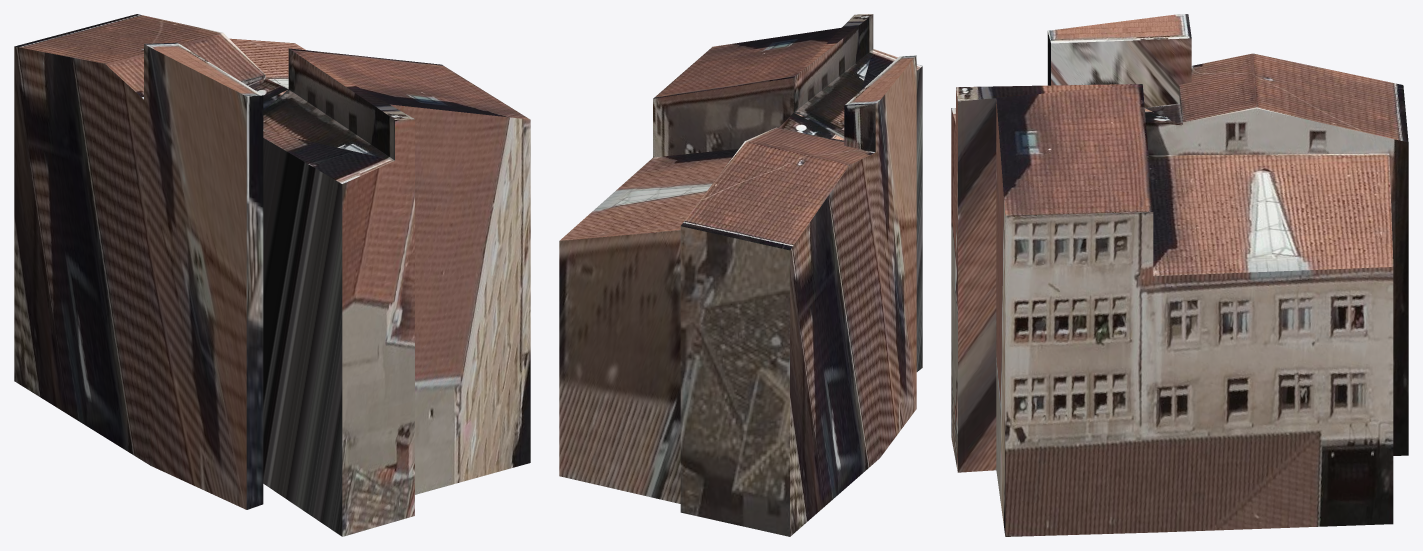
3 renders of one model, left to right at view 1: azimuth 30°, elevation 25°; view 2: azimuth 150°, elevation 25°; view 3: azimuth 270°, elevation 25°, orthographic. The views are drawn at different scales.
Parts seen in each view (by area): view 1: Z_UP; view 2: Z_UP; view 3: Z_UP.
Boxes of the visible parts, x1,y1,x2,y2 form: Z_UP: [14, 14, 530, 536]; Z_UP: [559, 14, 922, 536]; Z_UP: [951, 14, 1408, 536].
Size of the model in its own units: 15.11 by 19.9 by 21.07.
Materials: 2 (1 with a texture image).
